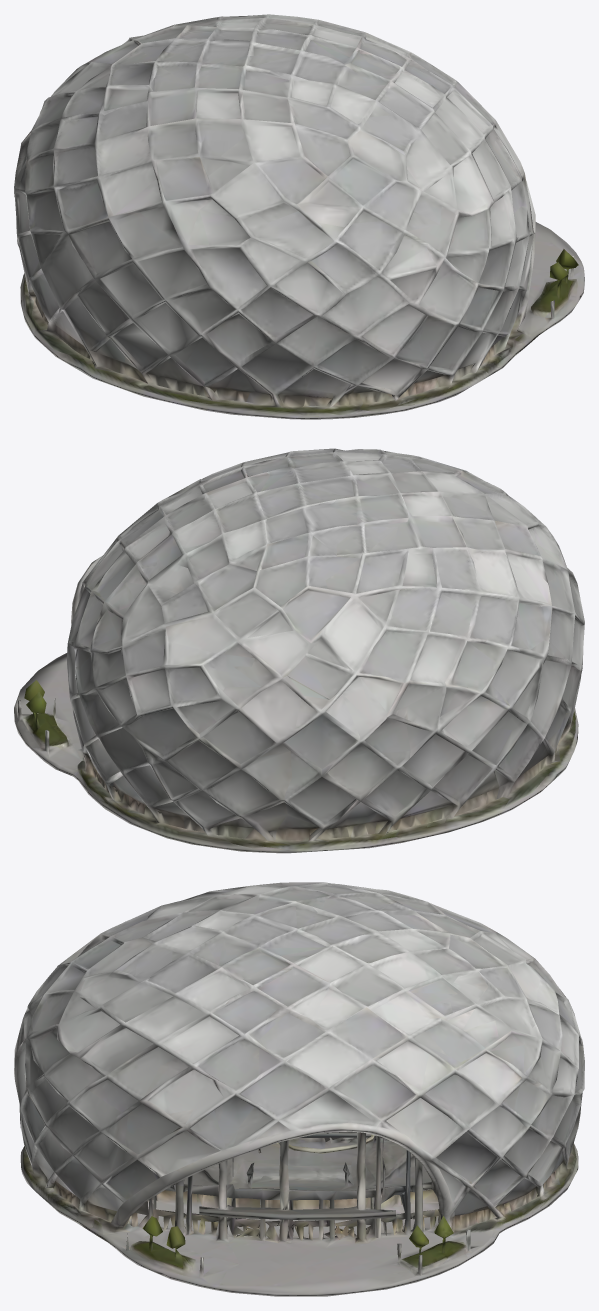
File: lm_dome.glb
3 views of the same model, one above another, from view 1: azimuth 30°, elevation 25°; view 2: azimuth 150°, elevation 25°; view 3: azimuth 270°, elevation 25° (orthographic).
Parts seen in each view (by area): view 1: tripo_node_bd280925-24eb-462d-968e-4f4020c2df32; view 2: tripo_node_bd280925-24eb-462d-968e-4f4020c2df32; view 3: tripo_node_bd280925-24eb-462d-968e-4f4020c2df32.
Boxes of the visible parts, box(x1,y1,x2,y2) form: tripo_node_bd280925-24eb-462d-968e-4f4020c2df32: box(14, 14, 584, 419); tripo_node_bd280925-24eb-462d-968e-4f4020c2df32: box(14, 448, 584, 853); tripo_node_bd280925-24eb-462d-968e-4f4020c2df32: box(14, 882, 584, 1296).
Size of the model in its own units: 0.9985 by 0.4745 by 0.9992.
1 material, 1 textured.
